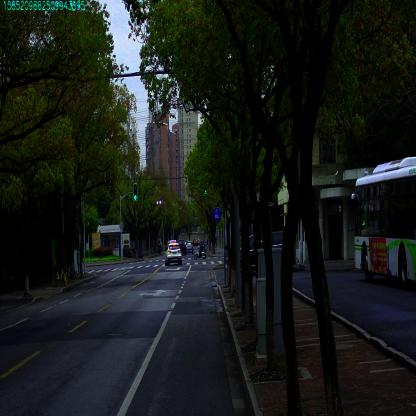traffic-light: (133, 184, 137, 200), (203, 179, 207, 195)
